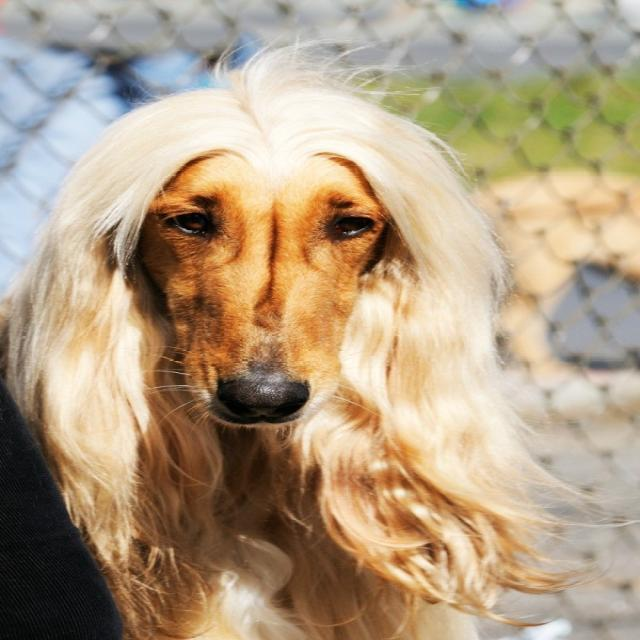dog: (17, 58, 576, 467)
